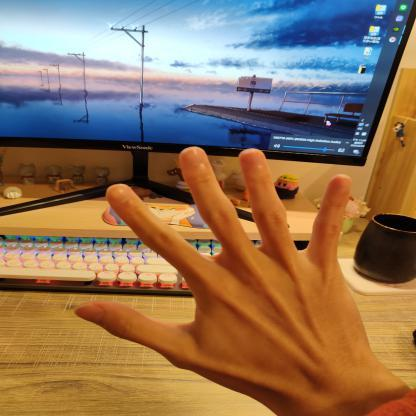bare_hand: (66, 137, 402, 416)
